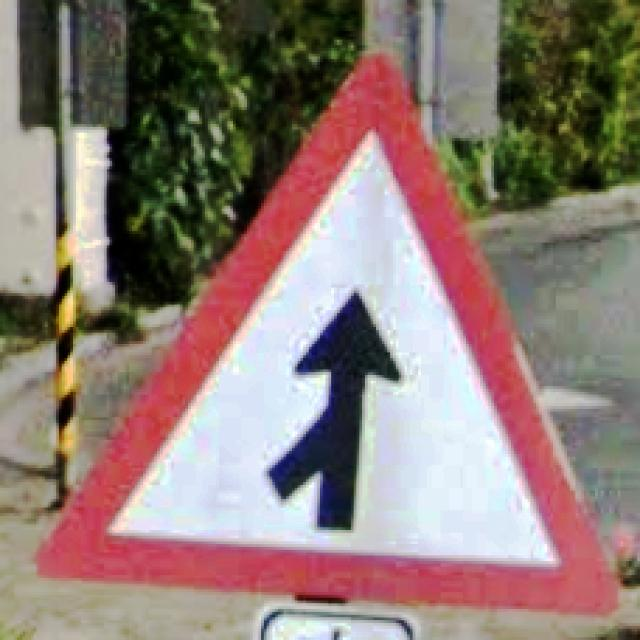leftmerge: (36, 51, 623, 612)
